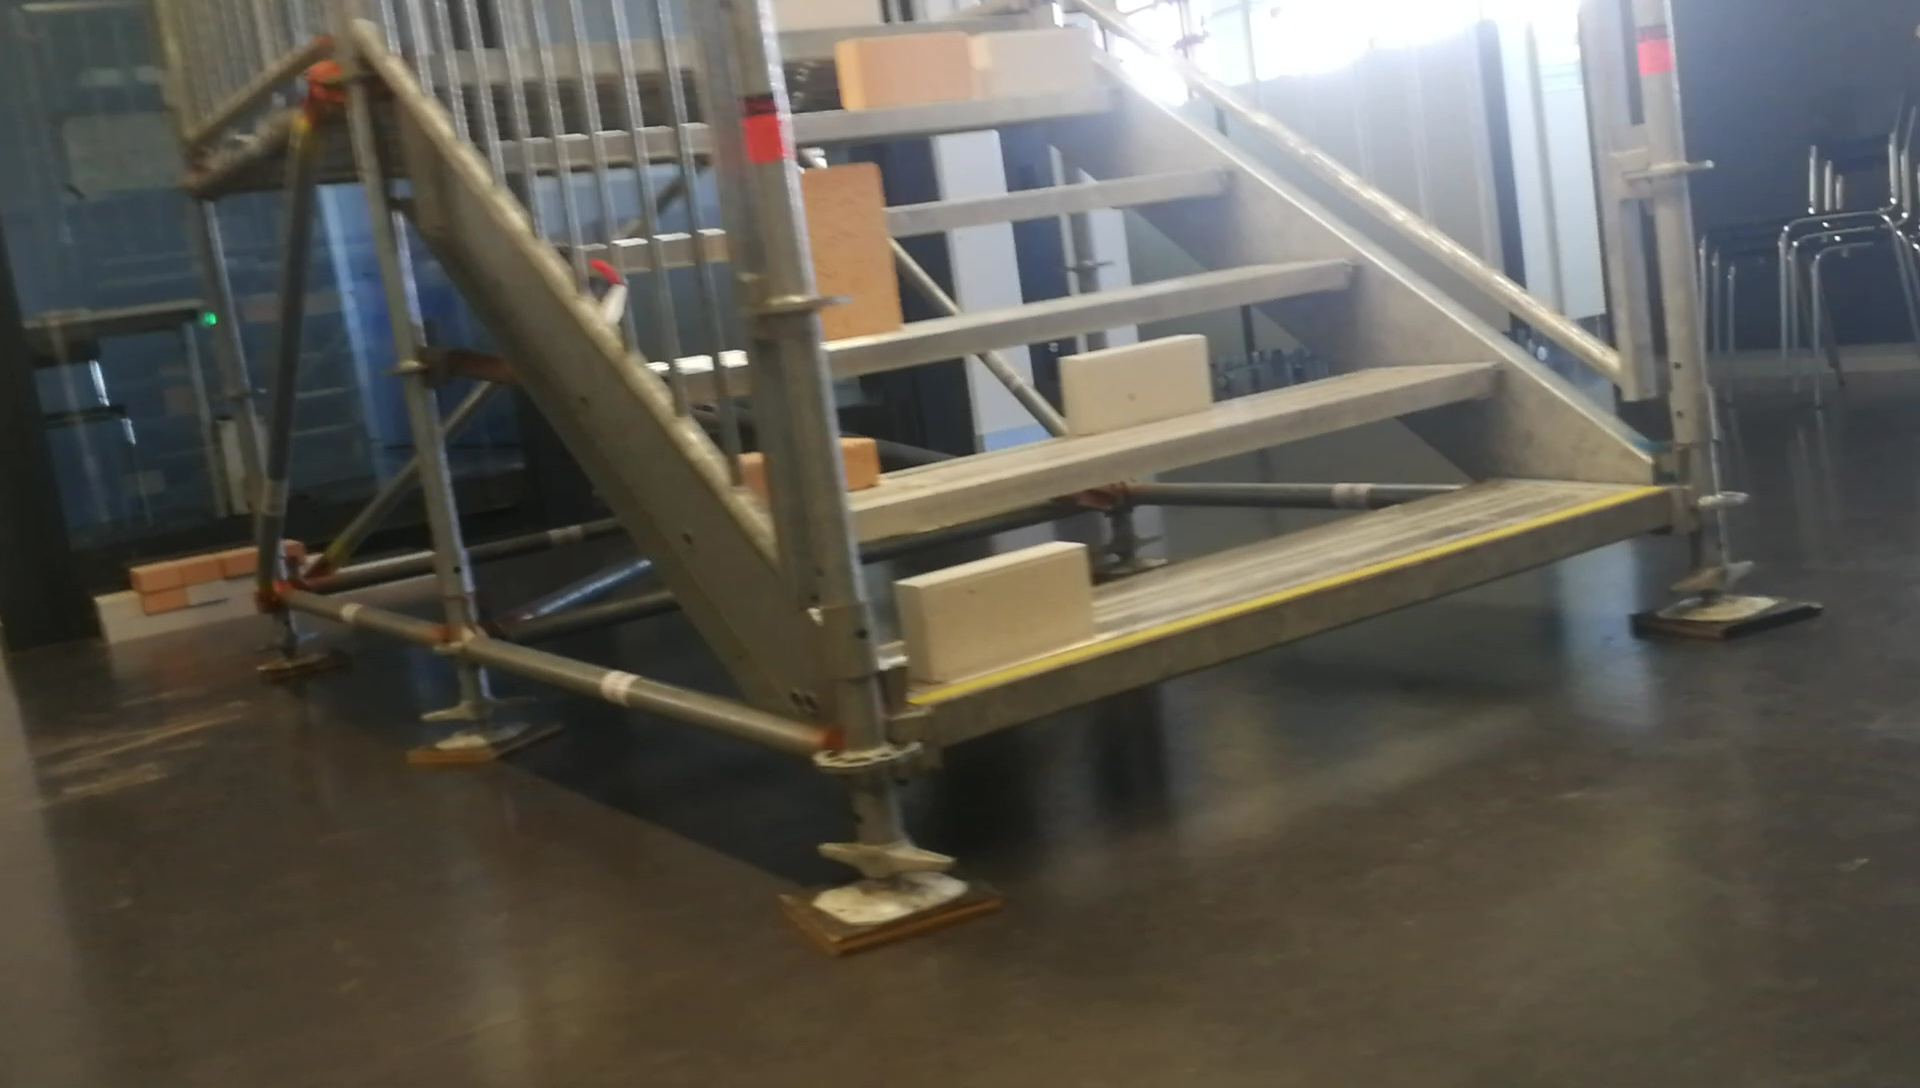brick: (898, 542, 1089, 677), (806, 164, 902, 343), (1064, 332, 1207, 433), (837, 33, 968, 106), (977, 28, 1091, 94), (837, 433, 877, 496)
edge: (928, 489, 1673, 740), (855, 365, 1502, 539), (831, 248, 1354, 382)
stairs: (825, 5, 1815, 959)
